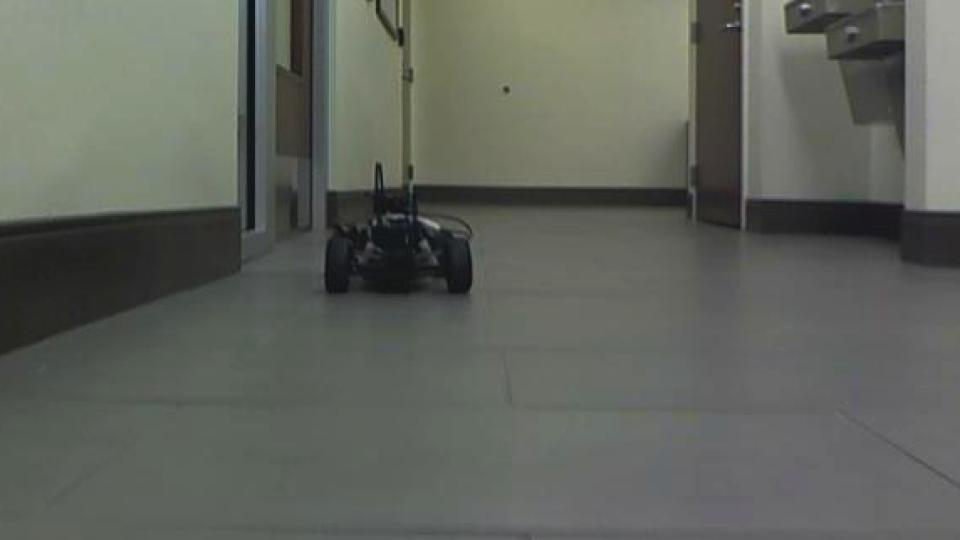car: (320, 158, 478, 298)
